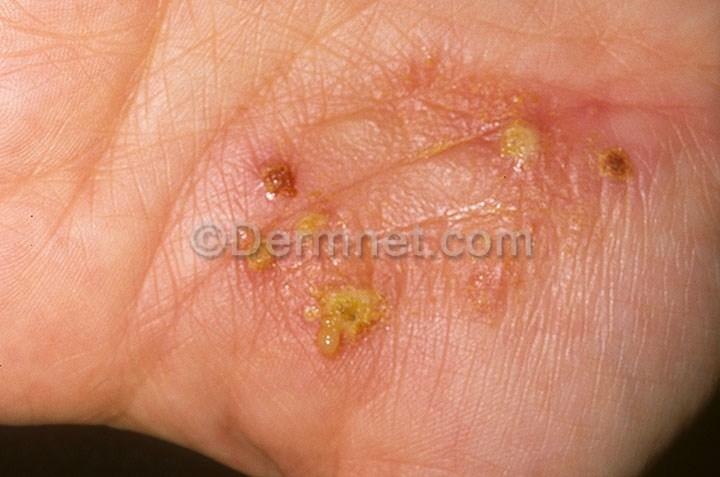Eczema: (447, 69, 671, 233), (344, 33, 455, 228), (287, 286, 435, 394), (225, 132, 362, 232), (199, 257, 287, 357), (454, 259, 548, 351)
